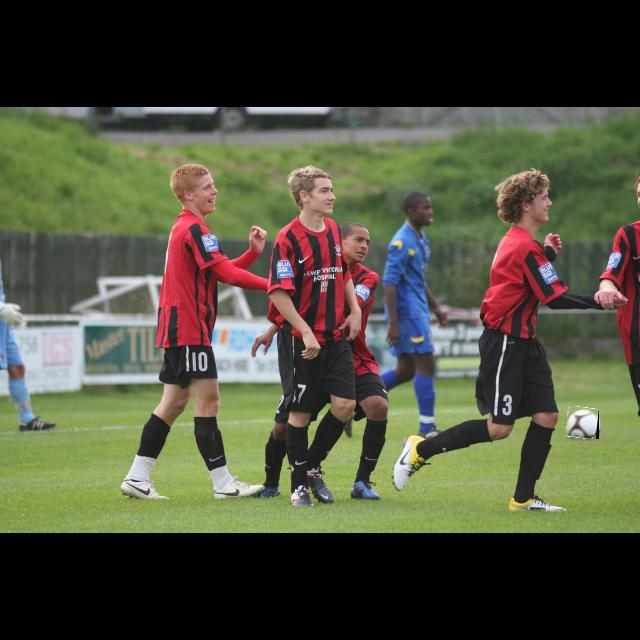Football: (567, 407, 599, 439)
